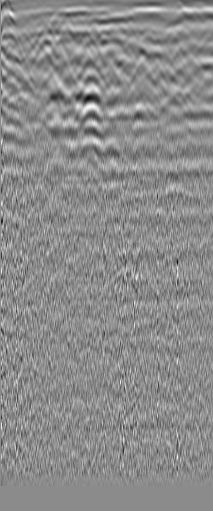오수: (26, 33, 62, 69)
우수: (165, 38, 199, 67)
